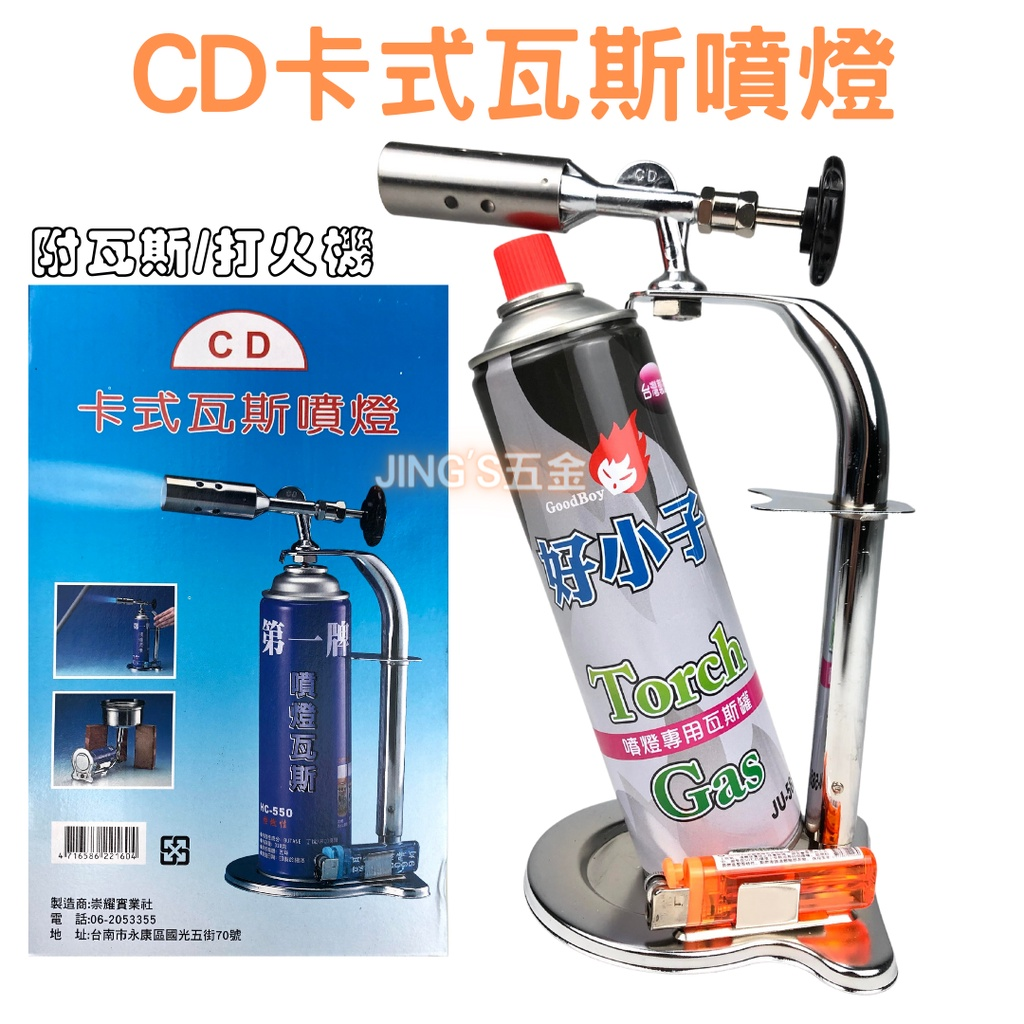gastorch: (379, 139, 907, 993), (160, 474, 431, 896), (58, 729, 138, 784), (111, 596, 163, 676)
